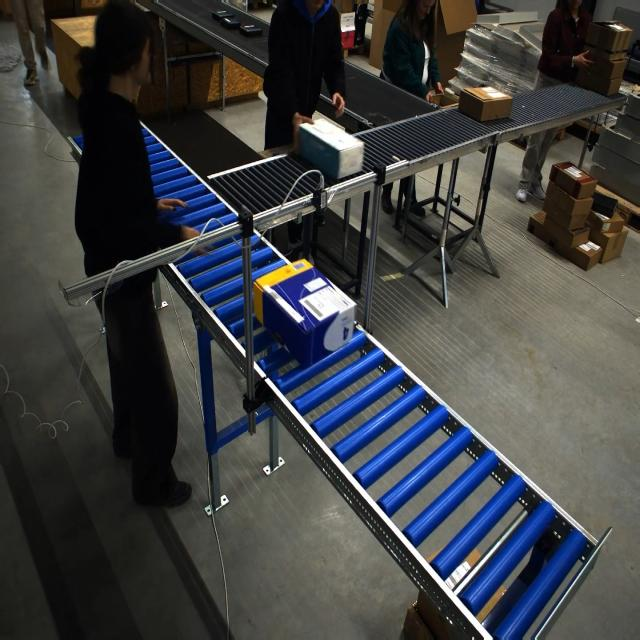box: (257, 258, 345, 365), (298, 118, 352, 183), (458, 85, 513, 123), (428, 92, 461, 109)
product: (238, 24, 262, 37), (221, 17, 241, 30), (211, 10, 232, 22)
